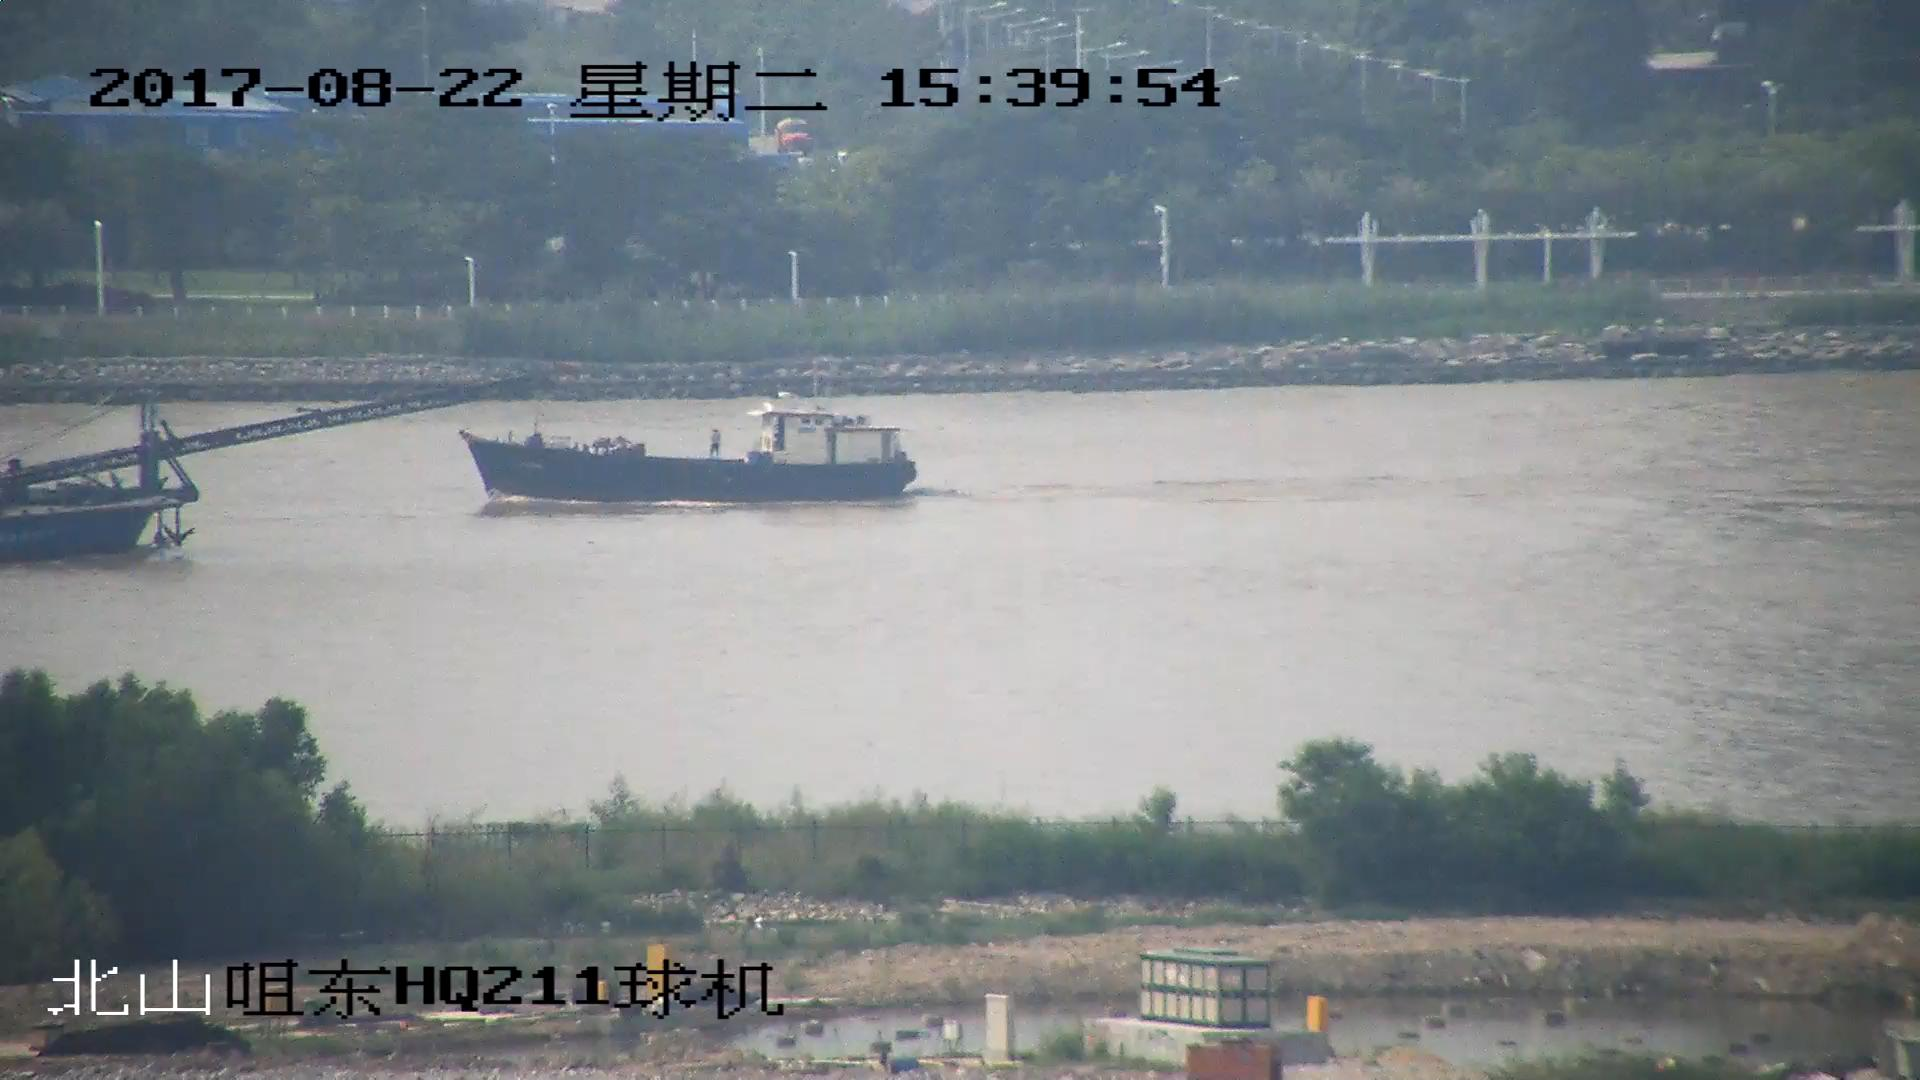fishing boat: (463, 410, 916, 503)
ore carrier: (1, 371, 529, 571)
